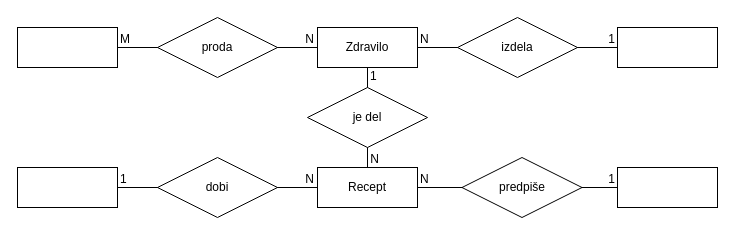
Image size: 735x235. Some labels were removed from this diagram. Here are the shapes that lost their labels. From the top down, the box of each, then its label:
(16, 26, 118, 68): Lekarna
(616, 26, 718, 68): Podjetje
(16, 166, 118, 208): Pacient
(616, 166, 718, 208): Zdravnik
